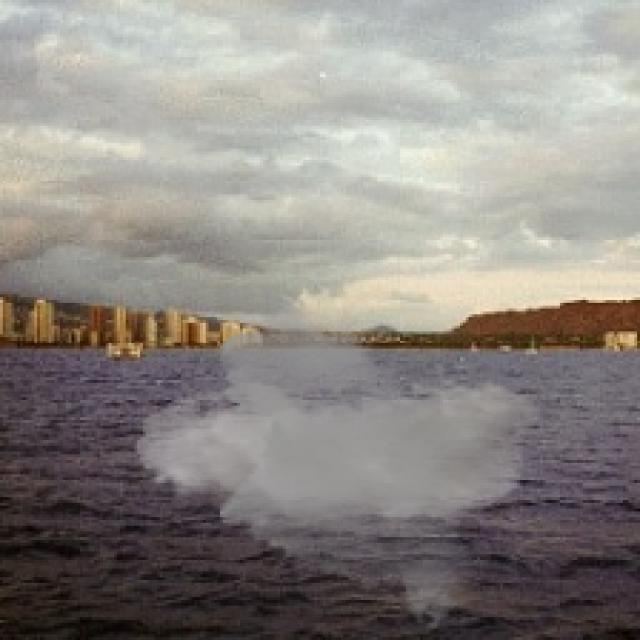Smoke: (134, 288, 543, 632)
